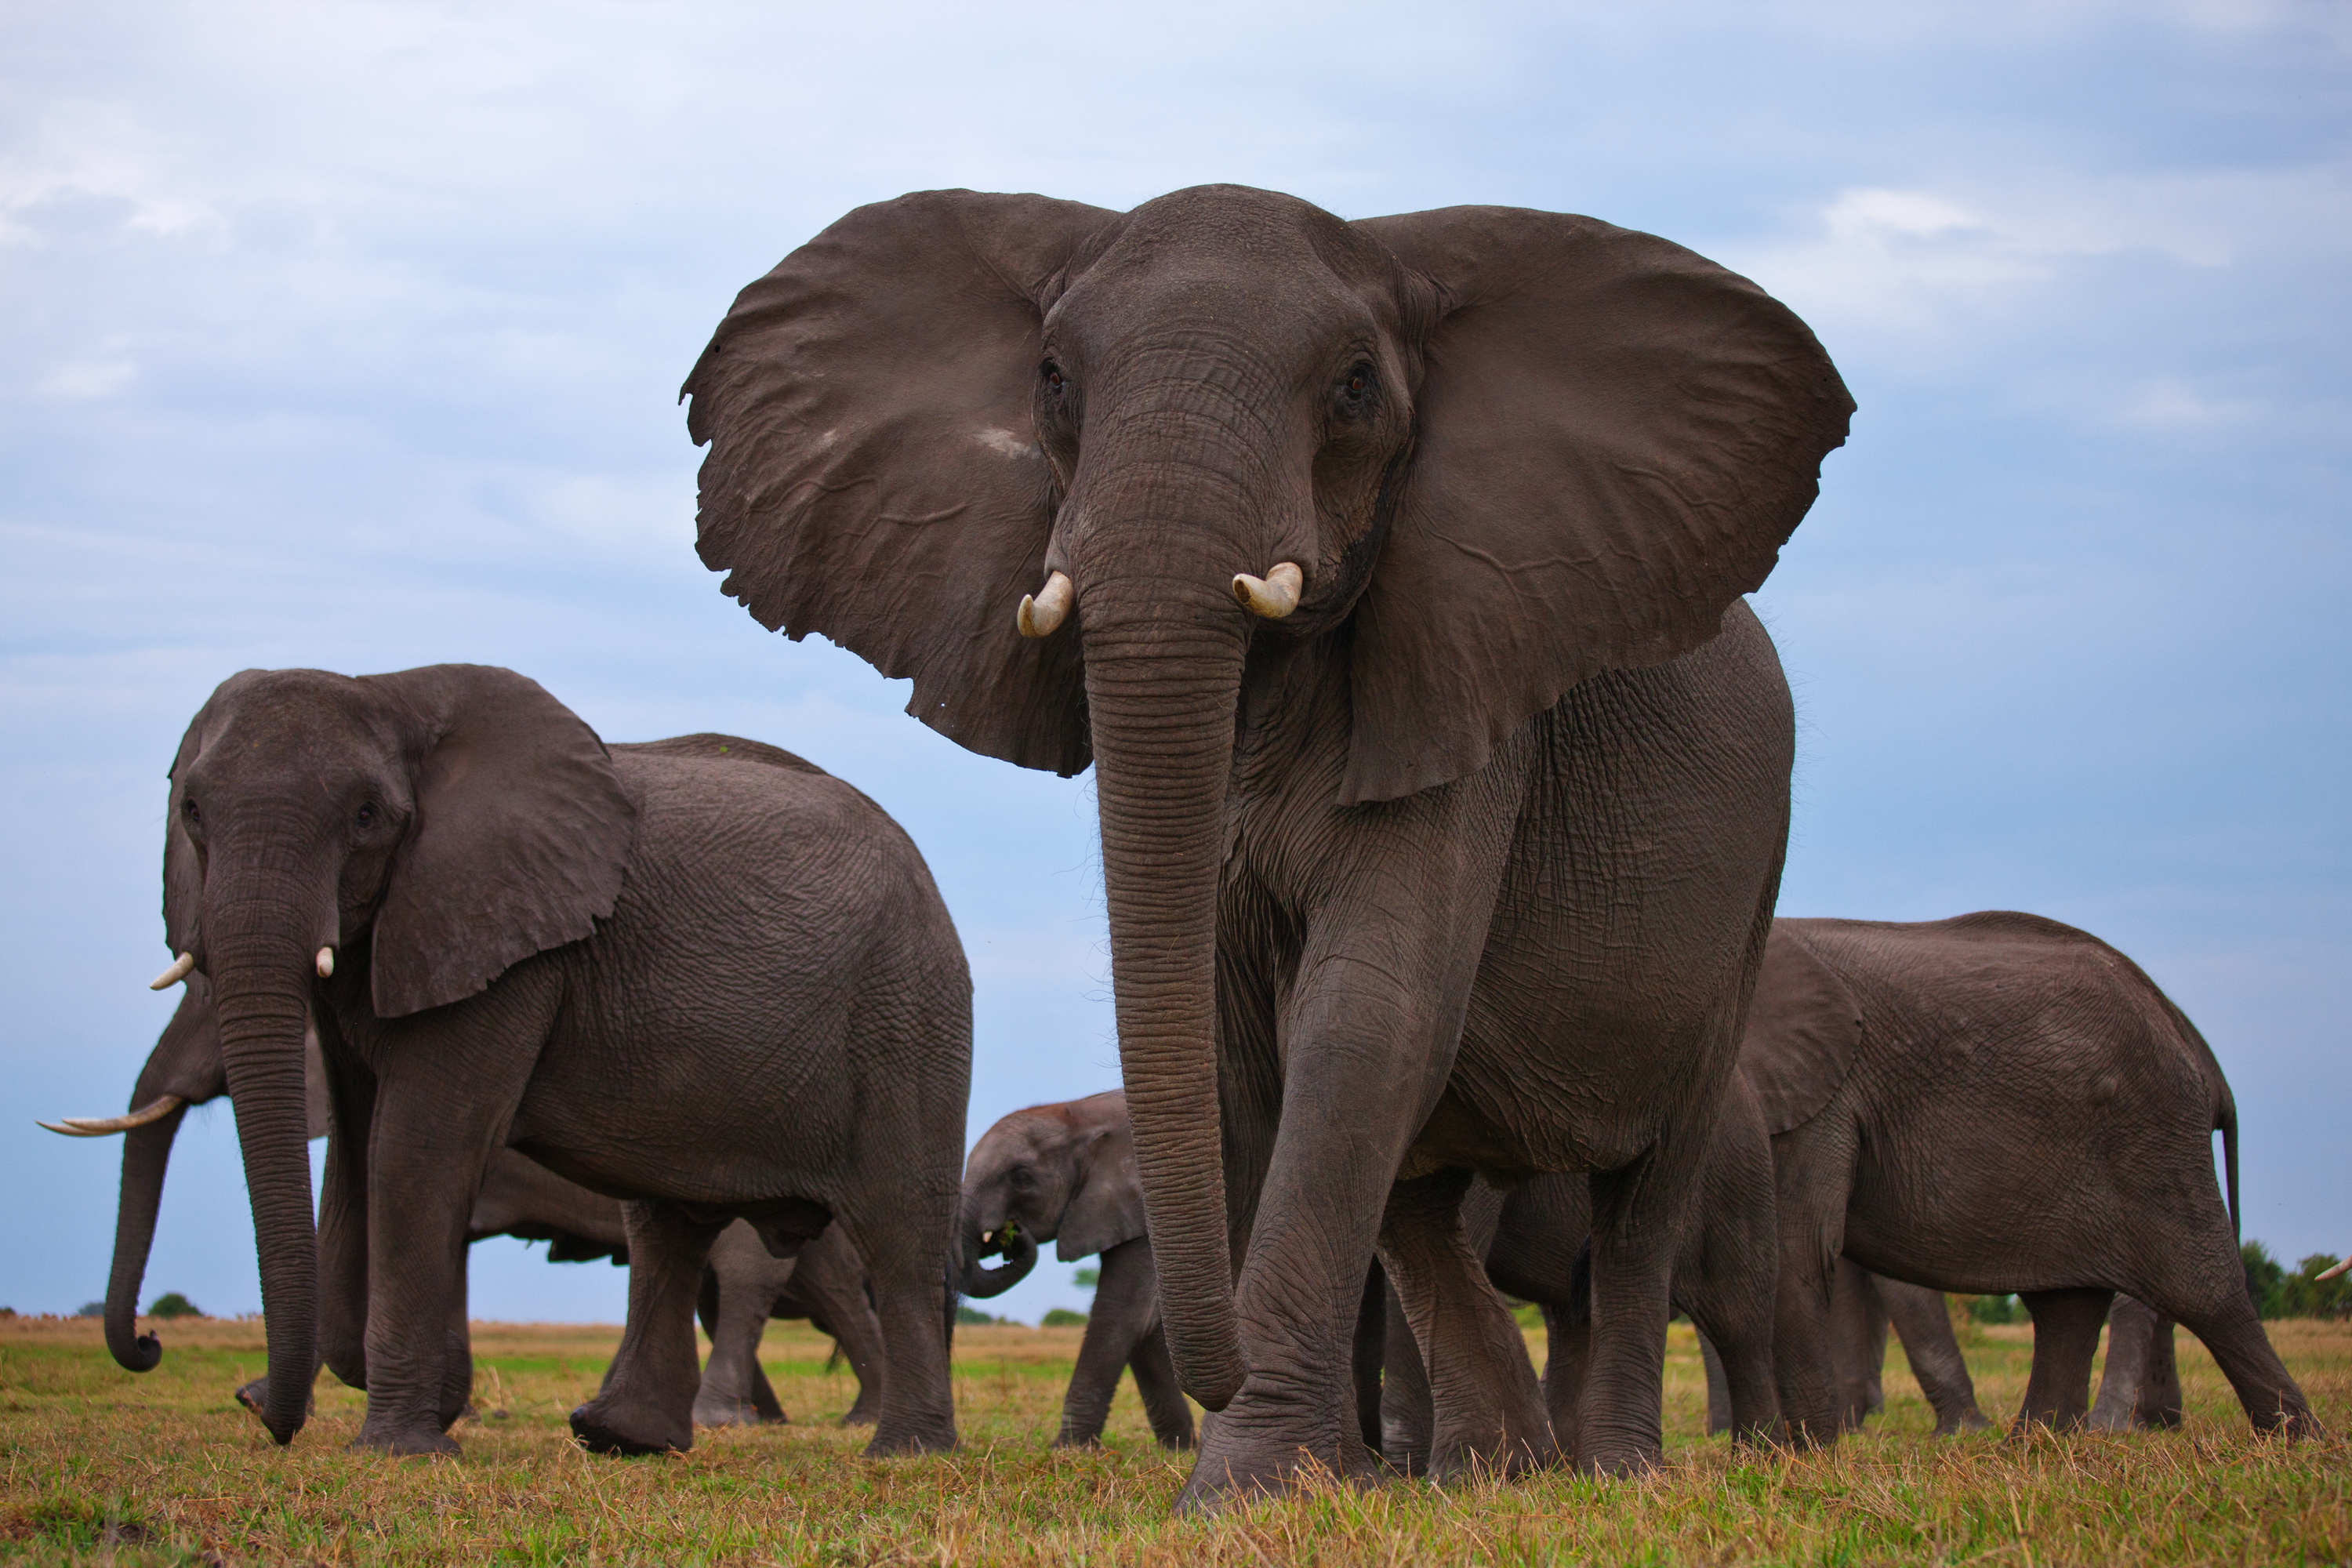elephant: (697, 175, 1853, 1493), (163, 653, 994, 1477), (1508, 910, 2314, 1468), (963, 1094, 1220, 1458)
